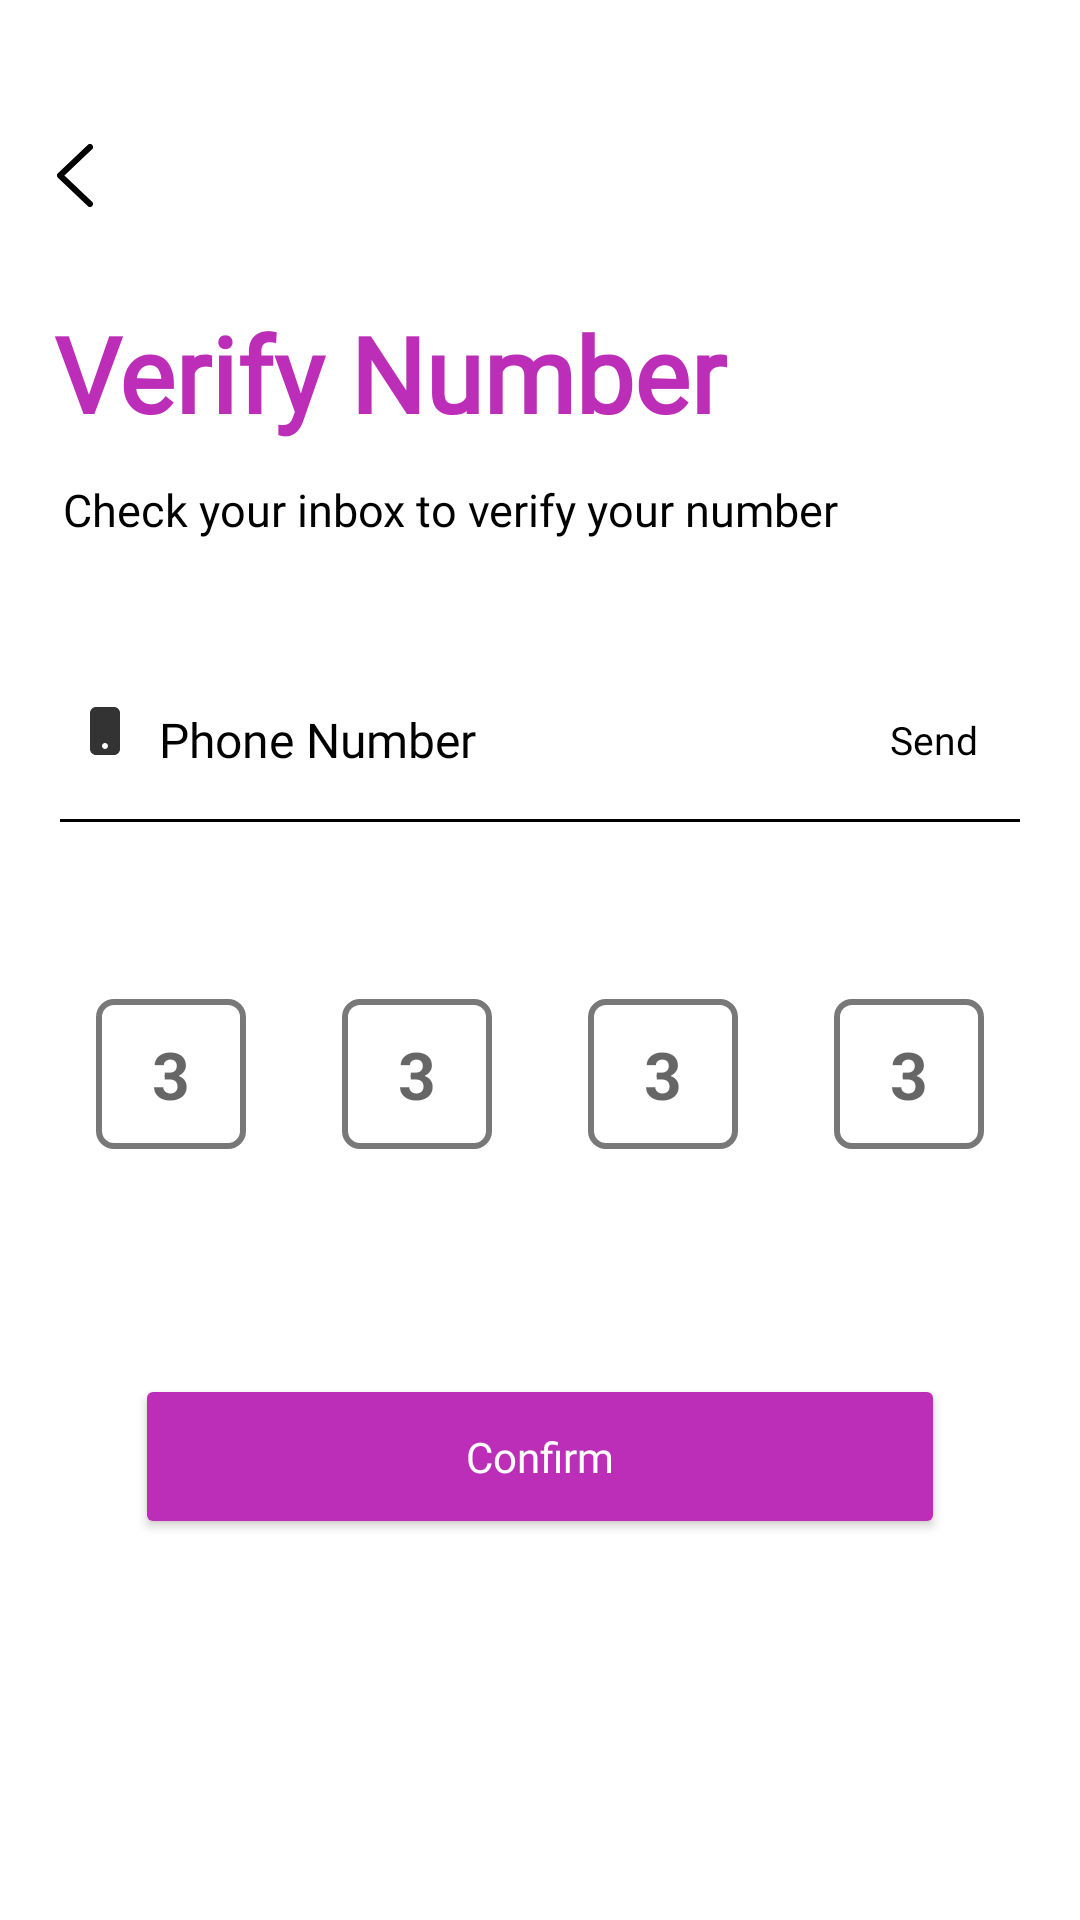

Icon bounding boxes for this 1080px×1920px phone screenshot, format (x1, y1, x2, y2):
leftarrow: (57, 144, 93, 207)
